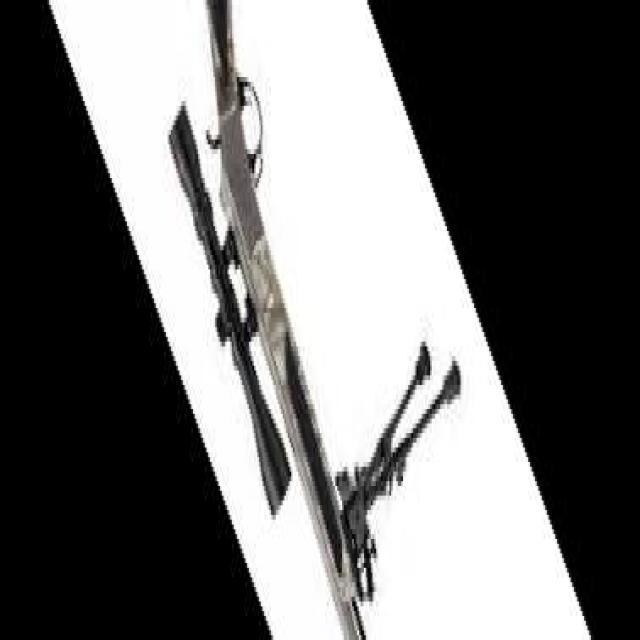weapon: (168, 0, 462, 640)
